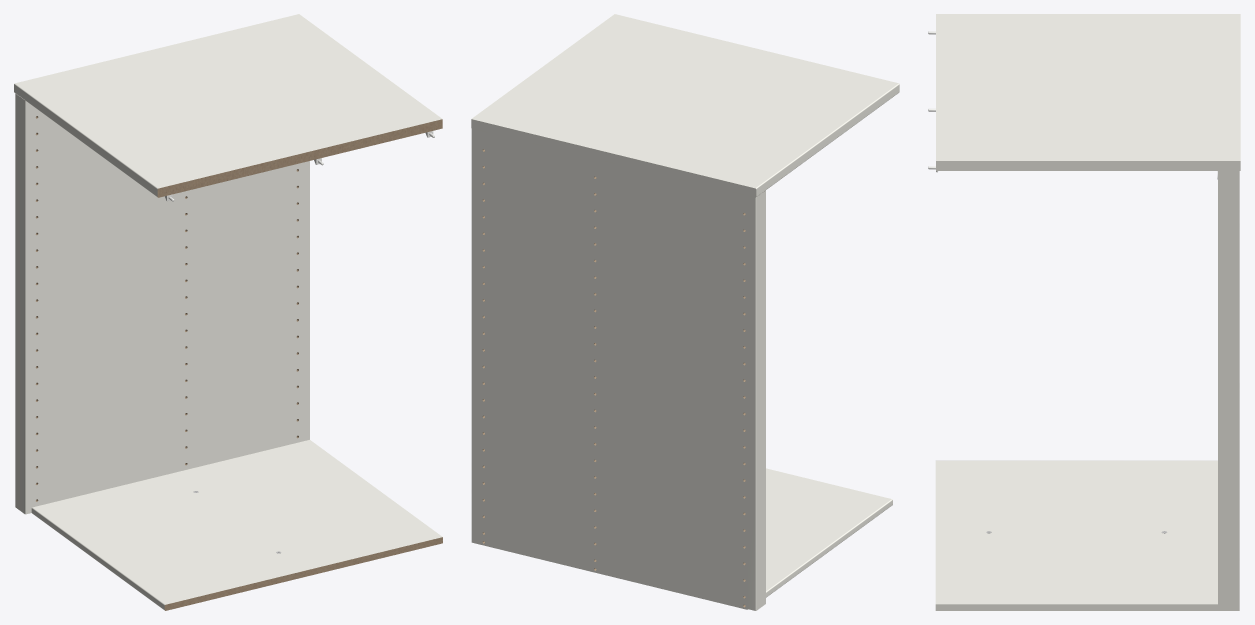
Rendered from 15 - KOMPLEMENT Divider for frames - white 75-100x58 cm.glb.
3 views of the same model, side by side, from view 1: azimuth 30°, elevation 25°; view 2: azimuth 150°, elevation 25°; view 3: azimuth 270°, elevation 25° (orthographic). The views are drawn at different scales.
Parts seen in each view (by area): view 1: 60246396-KOMPLEMENT001; view 2: 60246396-KOMPLEMENT001; view 3: 60246396-KOMPLEMENT001.
Boxes of the visible parts, box(x1,y1,x2,y2) form: 60246396-KOMPLEMENT001: box(14, 14, 442, 610); 60246396-KOMPLEMENT001: box(471, 14, 899, 610); 60246396-KOMPLEMENT001: box(928, 14, 1240, 610).
Bounding box in the file's own units: 0.573 × 0.8145 × 0.5127.
Materials: 1 (1 with a texture image).
